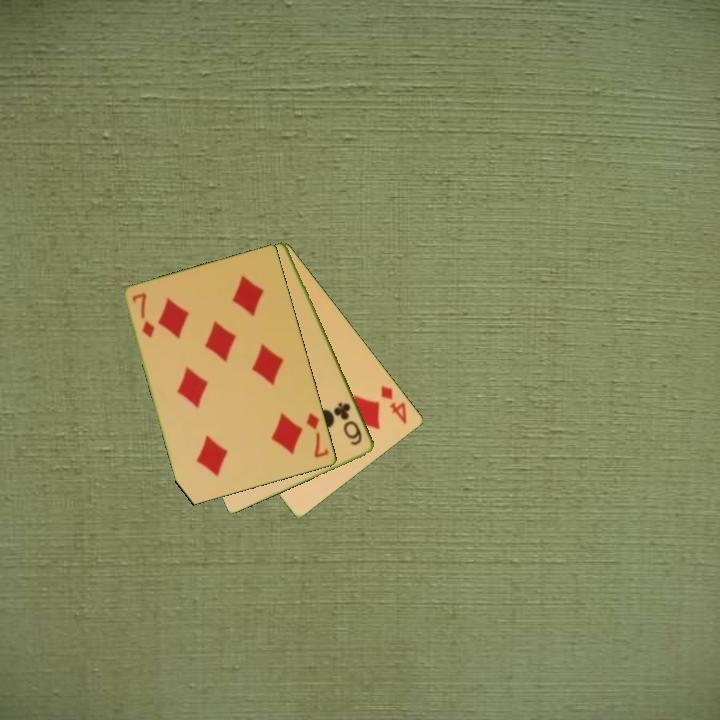4d: (377, 382, 410, 427)
6c: (331, 398, 365, 449)
7d: (303, 409, 332, 461), (129, 290, 158, 341)
